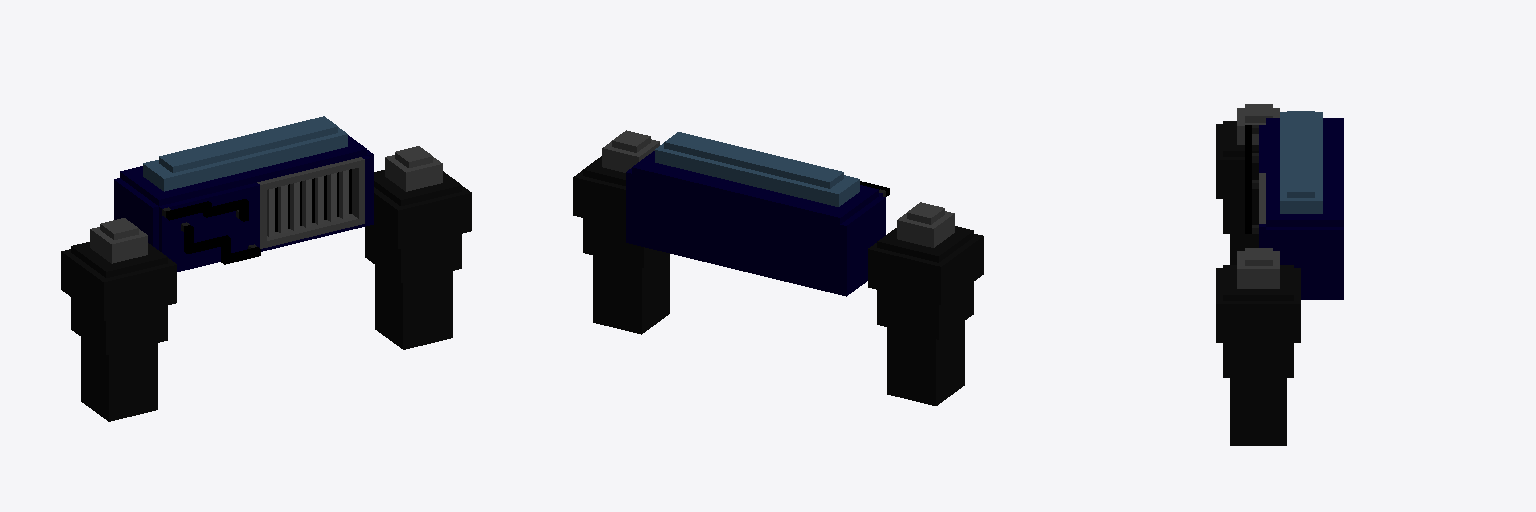
3 renders of one model, left to right at view 1: azimuth 30°, elevation 25°; view 2: azimuth 150°, elevation 25°; view 3: azimuth 270°, elevation 25°, orthographic.
Visible parts, largest first — view 1: object 1; view 2: object 1; view 3: object 1.
Part boxes in pixels (x1,y1,x2,y2): object 1: (61, 116, 471, 421); object 1: (573, 130, 983, 405); object 1: (1216, 104, 1343, 445).
Bounding box in the file's own units: 6 × 3.3 × 1.8.
Materials: 1 (1 with a texture image).